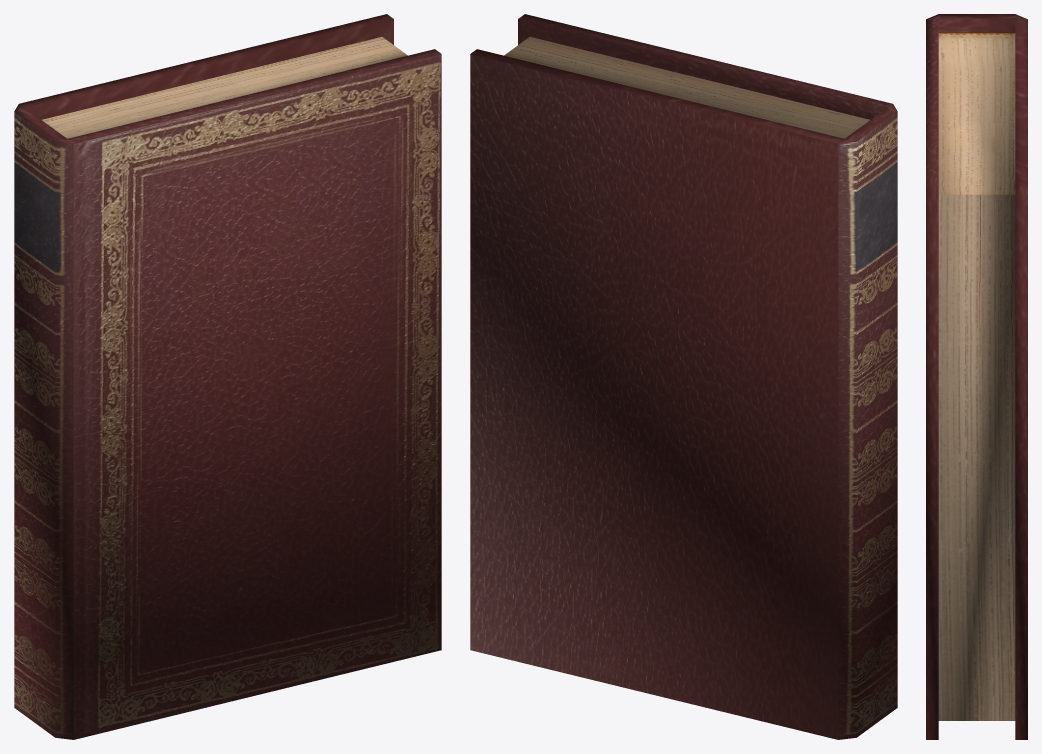
Rendered from Book_v1.glb.
3 views of the same model, side by side, from view 1: azimuth 30°, elevation 25°; view 2: azimuth 150°, elevation 25°; view 3: azimuth 270°, elevation 25° (orthographic). The views are drawn at different scales.
Parts seen in each view (by area): view 1: OldBook001; view 2: OldBook001; view 3: OldBook001.
Boxes of the visible parts, x1=… form: OldBook001: x1=14, y1=14, x2=441, y2=739; OldBook001: x1=470, y1=14, x2=897, y2=739; OldBook001: x1=926, y1=14, x2=1027, y2=739.
Bounding box in the file's own units: 0.14 × 0.21 × 0.035.
Materials: 1 (1 with a texture image).
